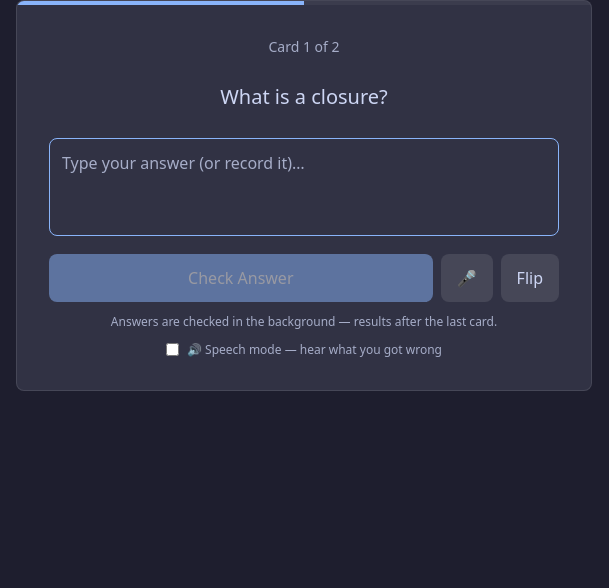
Scenario: ReviewSession › the results pass posts reviews in order: graded first, then self-rated
Type "a function" into the text box with placeholder "Type your answer (or record it)…" at {"x": 304, "y": 186}, box [49, 138, 559, 236]
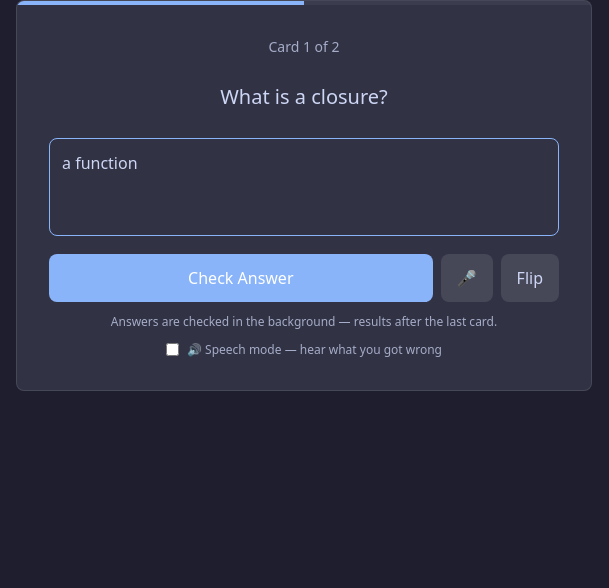
Click the button "Check Answer" at {"x": 241, "y": 278}, box [49, 254, 433, 302]
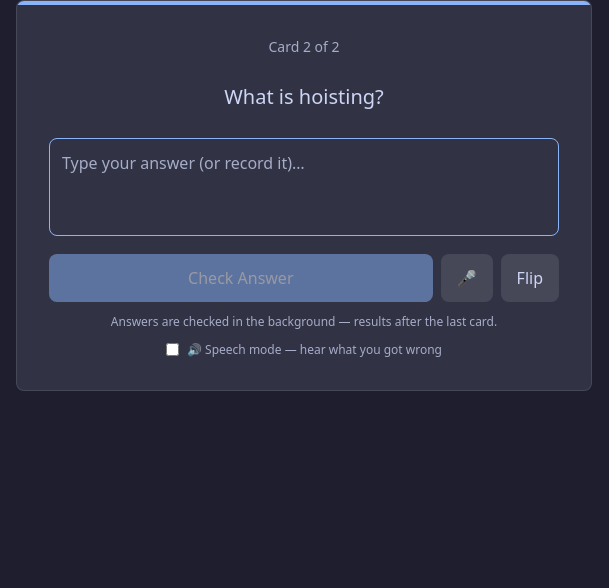
Result: the text "What is hoisting?" is shown at [224, 83, 384, 110]
Click the button "Flip" at {"x": 530, "y": 278}, box [501, 254, 559, 302]
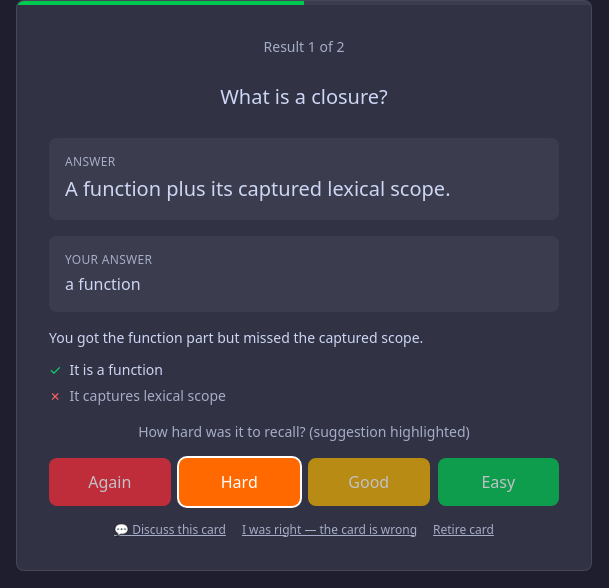
Result: the text "How hard was it to recall? (suggestion highlighted)" is shown at [138, 422, 470, 440]
Click the button "Good" at {"x": 369, "y": 482}, box [308, 458, 430, 506]
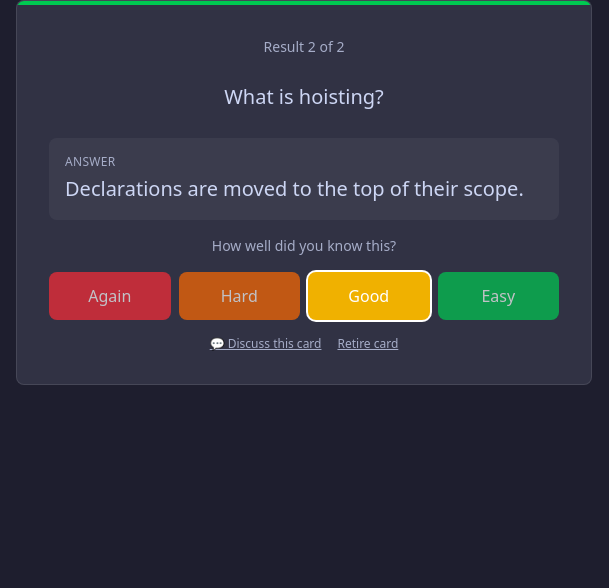
Result: the text "Result 2 of 2" is shown at [264, 37, 344, 56]
Result: the text "Declarations are moved to the top of their scope." is shown at [65, 174, 543, 204]
Result: the text "How well did you know this?" is shown at [212, 236, 396, 254]
Click the button "Easy" at {"x": 498, "y": 296}, box [438, 272, 559, 320]
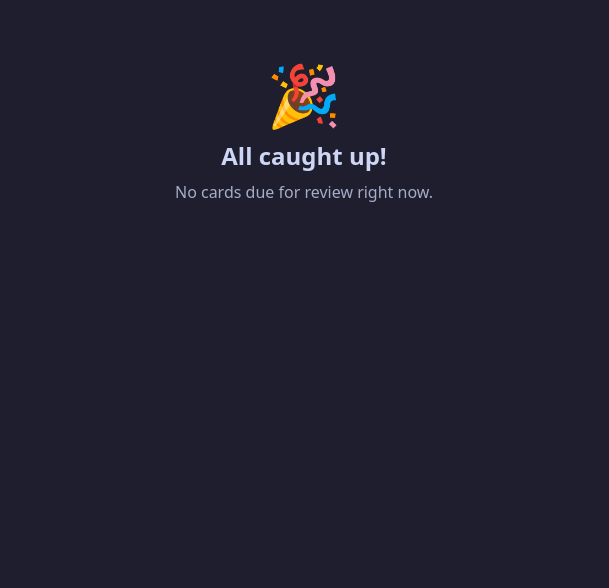
Result: the text "All caught up!" is shown at [221, 139, 387, 172]
